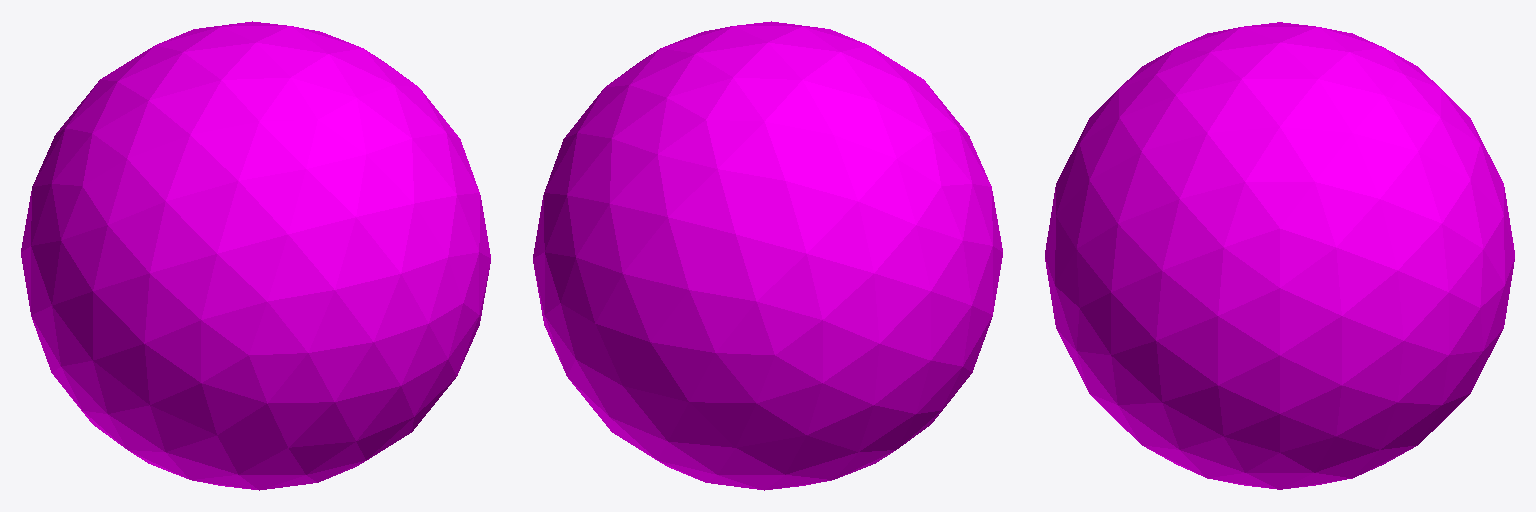
Rendered from joint_ball.obj.
The picture shows the model from 3 angles: view 1: azimuth 30°, elevation 25°; view 2: azimuth 150°, elevation 25°; view 3: azimuth 270°, elevation 25°; orthographic projection.
Parts seen in each view (by area): view 1: icosahedron2; view 2: icosahedron2; view 3: icosahedron2.
Part boxes in pixels (x1,y1,x2,y2): icosahedron2: (21, 21, 490, 490); icosahedron2: (533, 21, 1002, 490); icosahedron2: (1045, 22, 1514, 489).
Bounding box in the file's own units: 1 × 1 × 1.